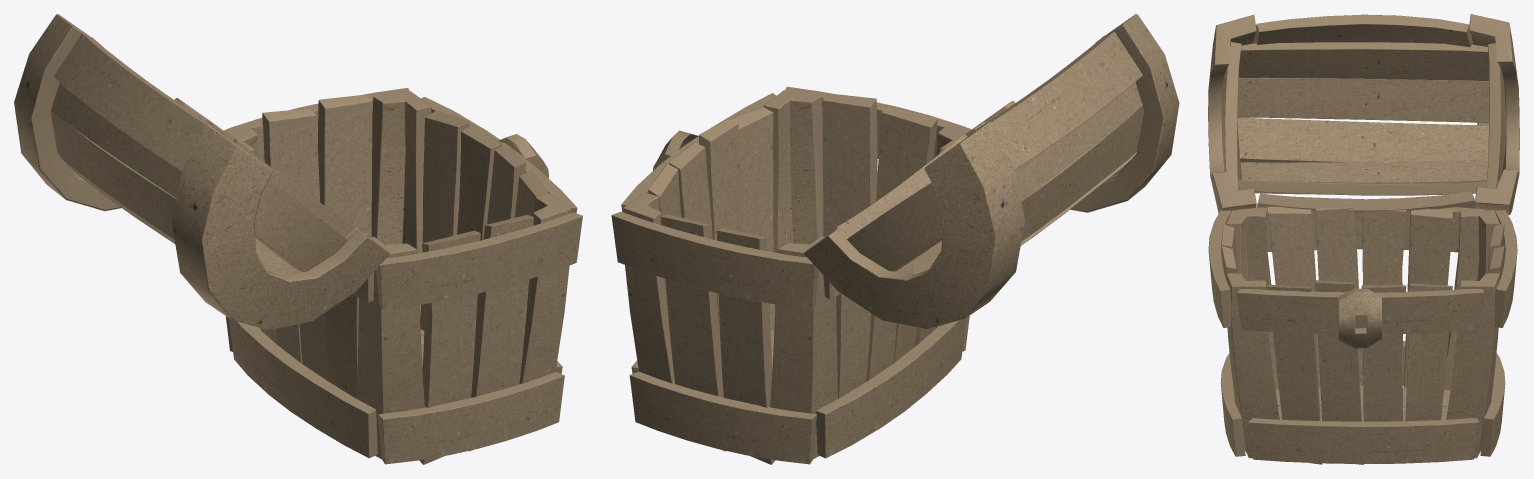
File: SM_Chest.FBX
3 views of the same model, side by side, from view 1: azimuth 30°, elevation 25°; view 2: azimuth 150°, elevation 25°; view 3: azimuth 270°, elevation 25° (orthographic). The views are drawn at different scales.
Parts seen in each view (by area): view 1: SM_Chest, SM_ChestLid; view 2: SM_Chest, SM_ChestLid; view 3: SM_Chest, SM_ChestLid.
Boxes of the visible parts, x1,y1,x2,y2 form: SM_Chest: (223,88,582,464); SM_ChestLid: (14,14,390,330); SM_Chest: (611,86,971,464); SM_ChestLid: (804,14,1179,329); SM_Chest: (1208,206,1517,464); SM_ChestLid: (1208,14,1519,215).
Bounding box in the file's own units: 6.06 × 5.18 × 4.62.
